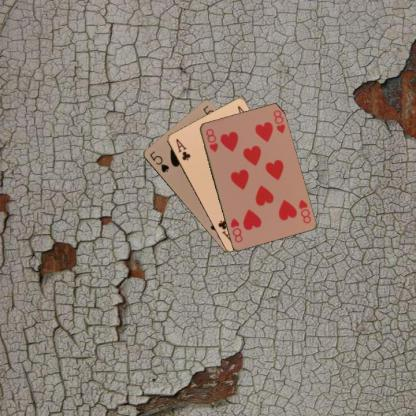5s: (147, 148, 170, 174)
8h: (295, 197, 312, 225), (203, 126, 219, 153)
Ac: (173, 136, 192, 162)
